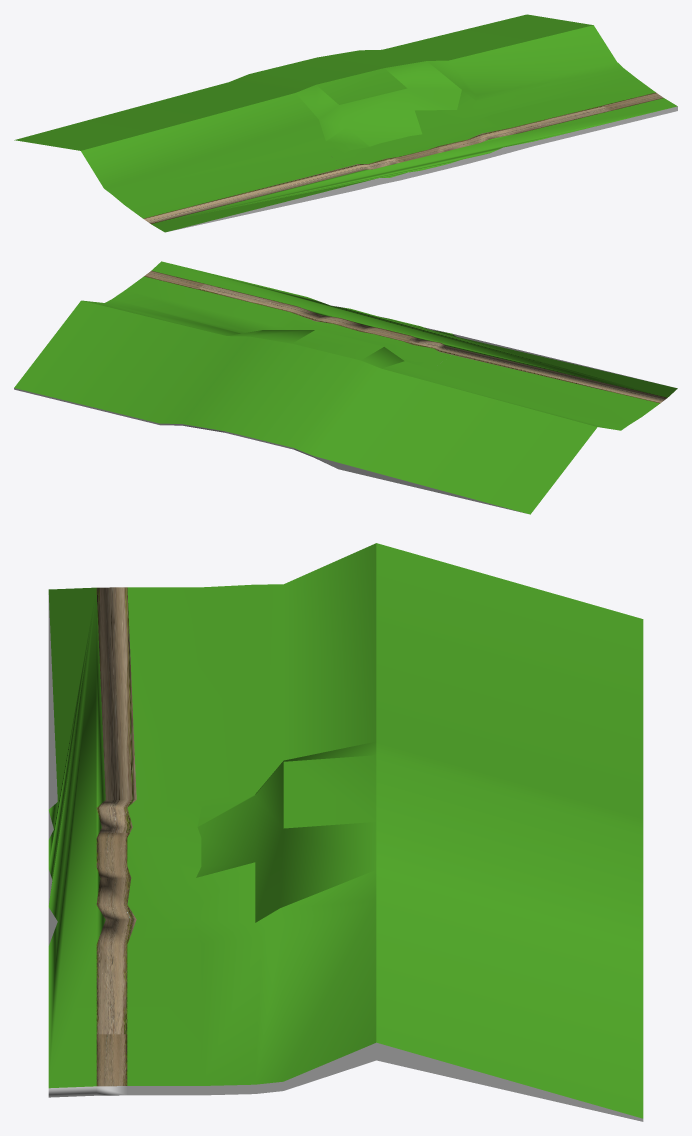
The model's file is scenetest.fbx.
3 views of the same model, one above another, from view 1: azimuth 30°, elevation 25°; view 2: azimuth 150°, elevation 25°; view 3: azimuth 270°, elevation 25° (orthographic). The views are drawn at different scales.
Parts seen in each view (by area): view 1: Mesh (3); view 2: Mesh (3); view 3: Mesh (3).
Boxes of the visible parts, left/top/right/bottom form: Mesh (3): left=14, top=14, right=677, bottom=232; Mesh (3): left=14, top=261, right=677, bottom=514; Mesh (3): left=48, top=543, right=643, bottom=1121.
Size of the model in its own units: 16140 by 1448 by 8067.
4 materials, 3 textured.
